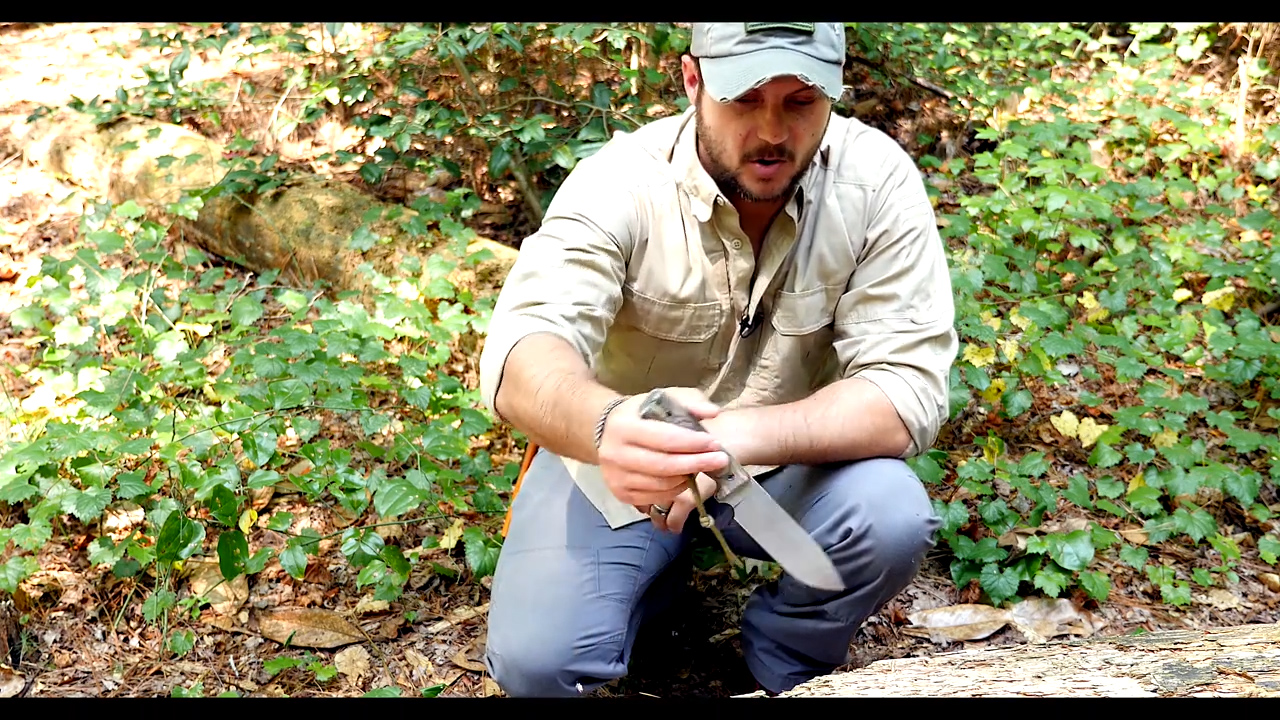knife: (610, 405, 861, 603)
